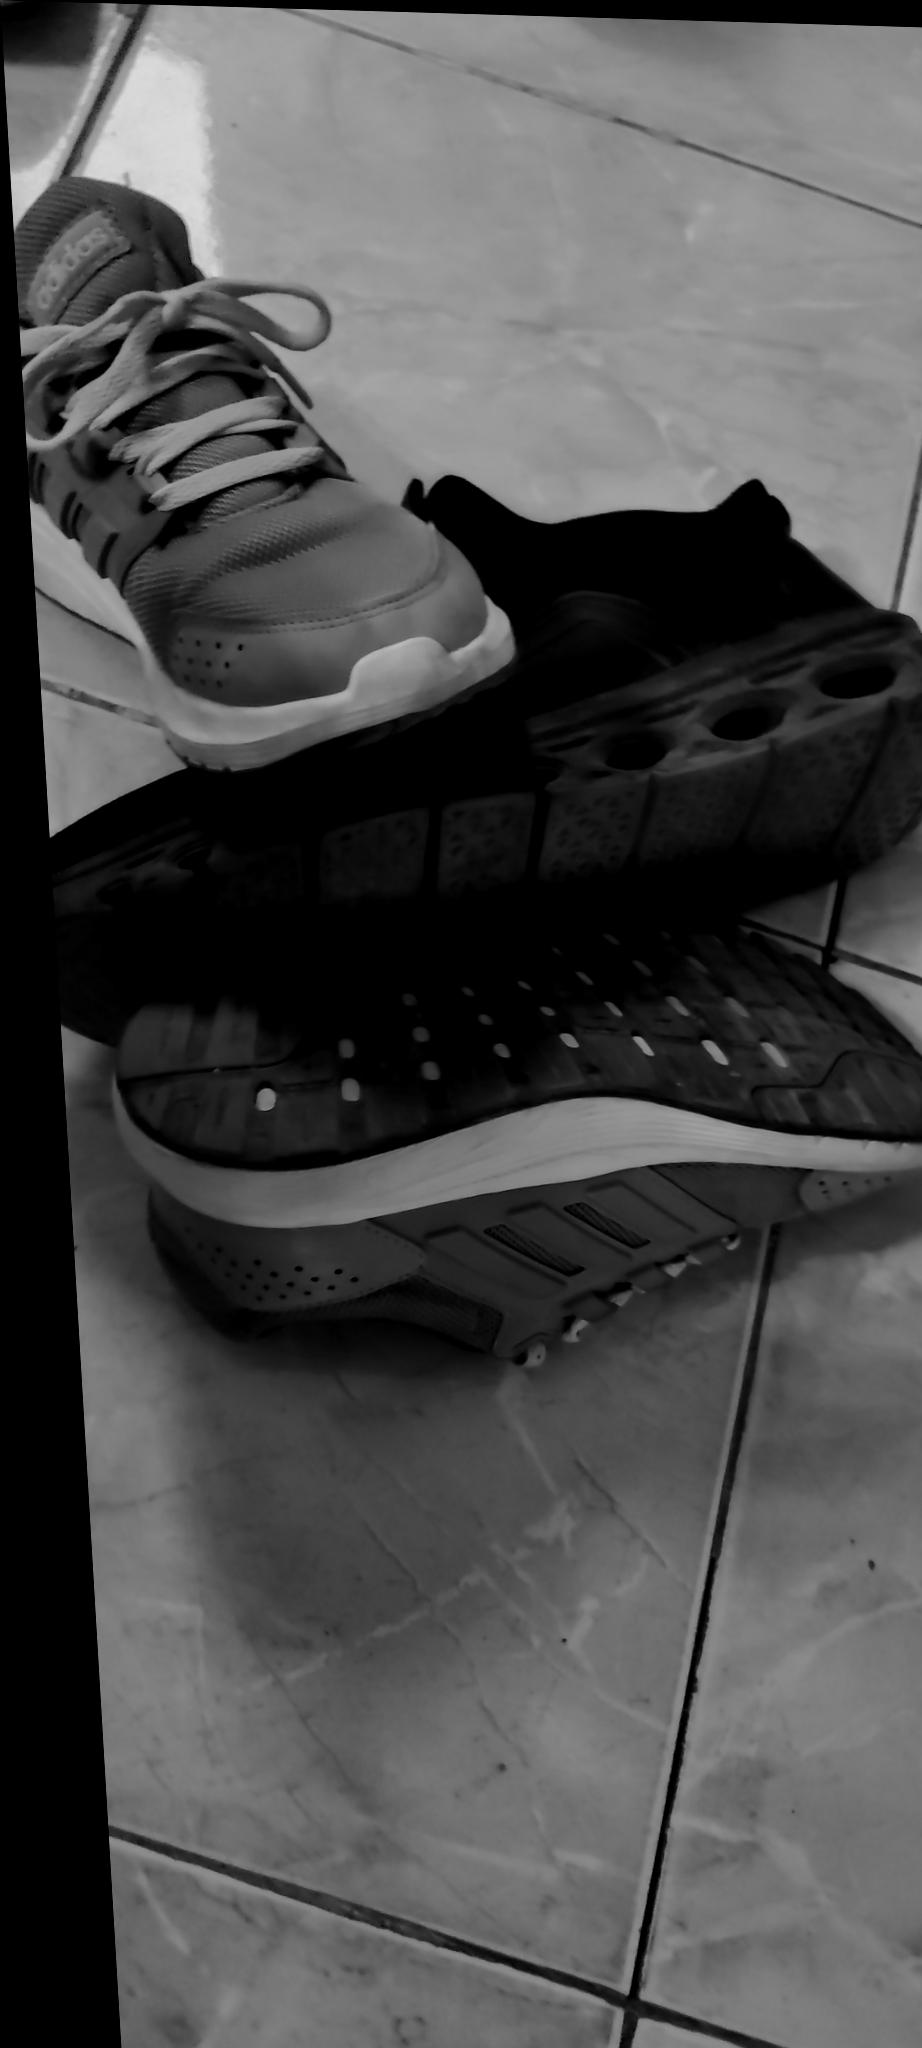Shoes: (27, 458, 922, 1066), (108, 888, 922, 1383), (10, 171, 528, 790)
